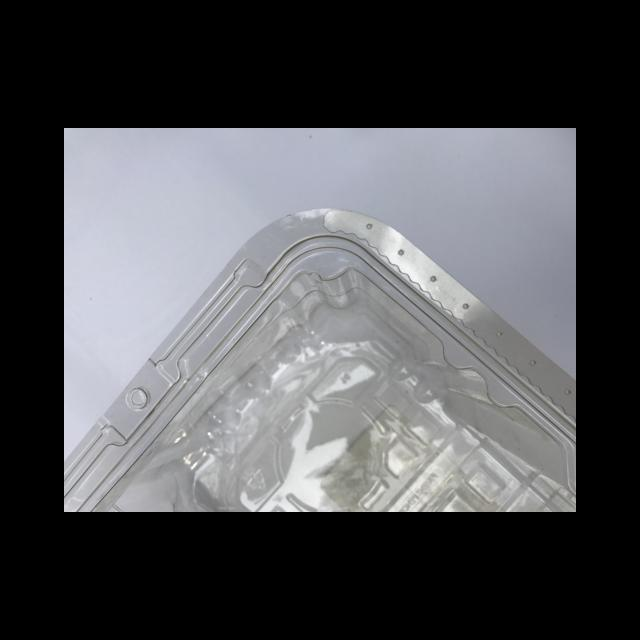plastic: (64, 206, 575, 511)
